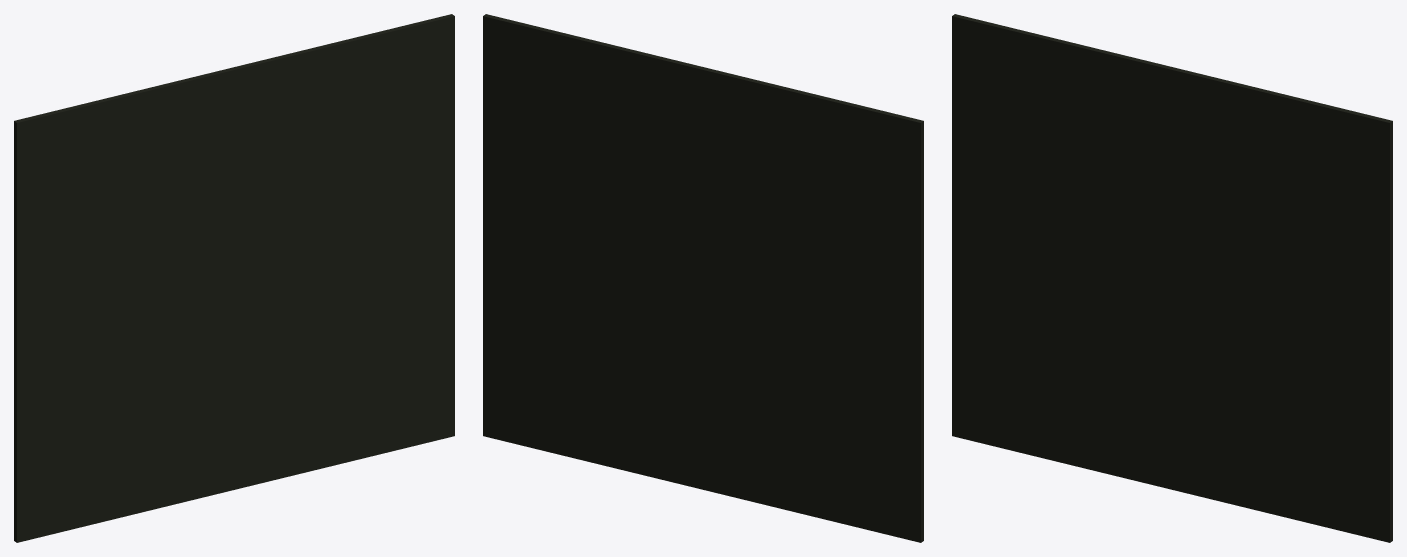
Rendered from SM_Wall_WindowBack_01.fbx.
The picture shows the model from 3 angles, left to right: view 1: azimuth 30°, elevation 25°; view 2: azimuth 150°, elevation 25°; view 3: azimuth 330°, elevation 25°; orthographic projection.
Parts seen in each view (by area): view 1: SM_Wall_WindowBack_01; view 2: SM_Wall_WindowBack_01; view 3: SM_Wall_WindowBack_01.
Part boxes in pixels (bbox=[...]): SM_Wall_WindowBack_01: bbox=[14, 14, 454, 542]; SM_Wall_WindowBack_01: bbox=[483, 14, 923, 542]; SM_Wall_WindowBack_01: bbox=[952, 14, 1392, 542].
Size of the model in its own units: 1.03 by 0.94 by 0.012.
1 material, 1 textured.
